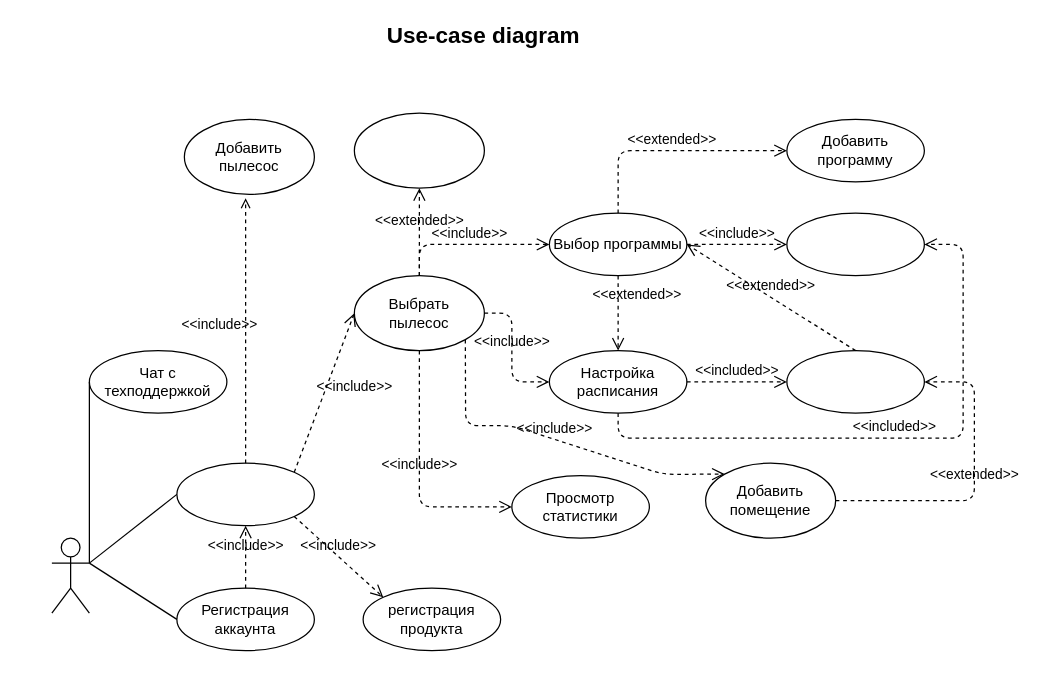
Image size: 1040x673. Some labels were removed from this diagram. Each missing label, with the box of its shape:
Вход в аккаунт: (176, 462, 314, 526)
Выбор помещения: (786, 349, 924, 413)
Запуск: (786, 212, 924, 276)
Обновление прошивки: (353, 112, 484, 188)
Пользователь: (51, 537, 89, 613)
